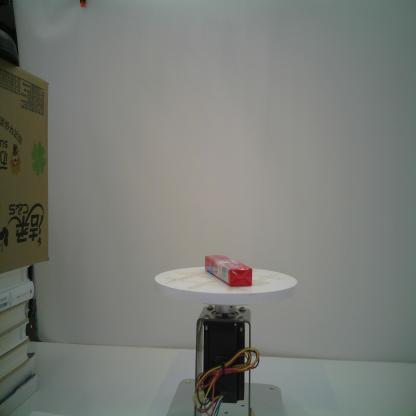Candy: (205, 254, 252, 286)
